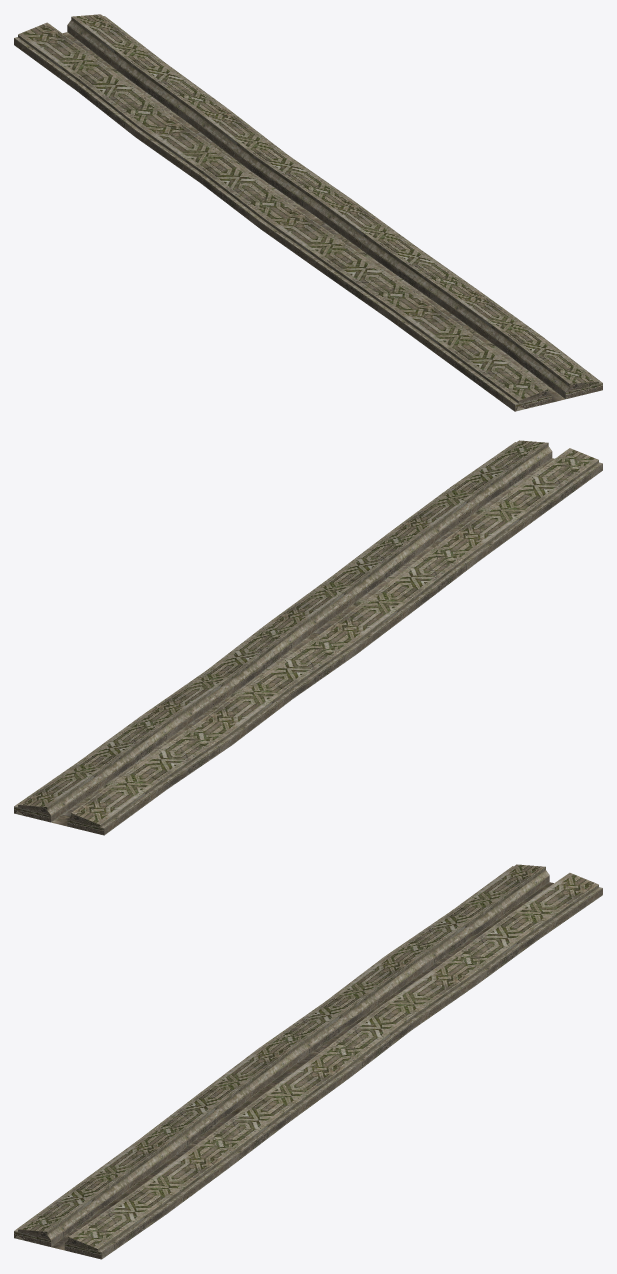
Rendered from bg_lut_lutomb_deco03_sm_old.FBX.
The picture shows the model from 3 angles, top to bottom: view 1: azimuth 30°, elevation 25°; view 2: azimuth 150°, elevation 25°; view 3: azimuth 330°, elevation 25°; orthographic projection.
Visible parts, largest first — view 1: bg_lut_lutomb_deco03_sm_old; view 2: bg_lut_lutomb_deco03_sm_old; view 3: bg_lut_lutomb_deco03_sm_old.
Part boxes in pixels (x1,y1,x2,y2): bg_lut_lutomb_deco03_sm_old: [14, 14, 602, 411]; bg_lut_lutomb_deco03_sm_old: [14, 440, 602, 835]; bg_lut_lutomb_deco03_sm_old: [14, 864, 602, 1259].
Size of the model in its own units: 111 by 16.36 by 1024.
